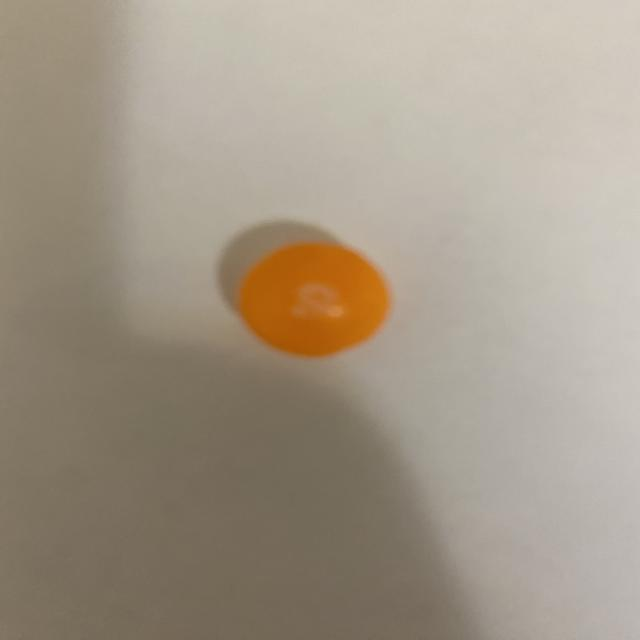smartie: (238, 243, 389, 355)
